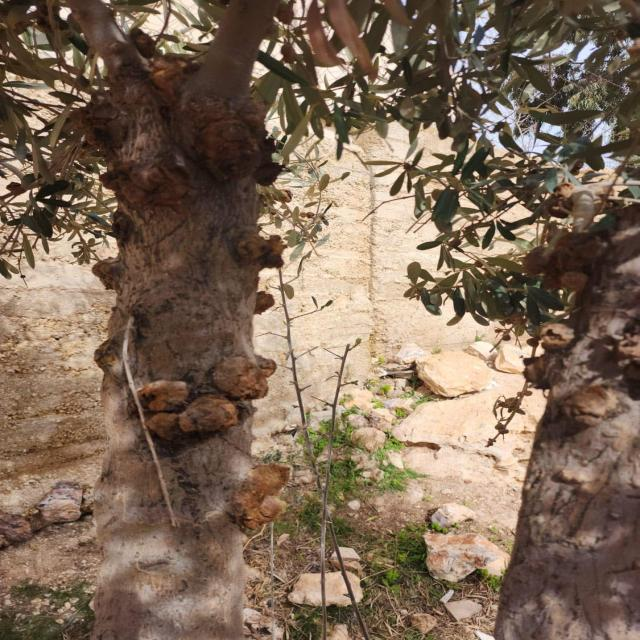Tuberculosis: (191, 98, 284, 187), (138, 381, 239, 443), (100, 159, 194, 213), (522, 232, 602, 293), (548, 383, 617, 433), (213, 355, 276, 401), (146, 53, 200, 102), (233, 233, 287, 273), (523, 353, 561, 391), (543, 182, 573, 219), (129, 28, 161, 62), (92, 257, 122, 292), (539, 323, 574, 352), (254, 291, 275, 314)
